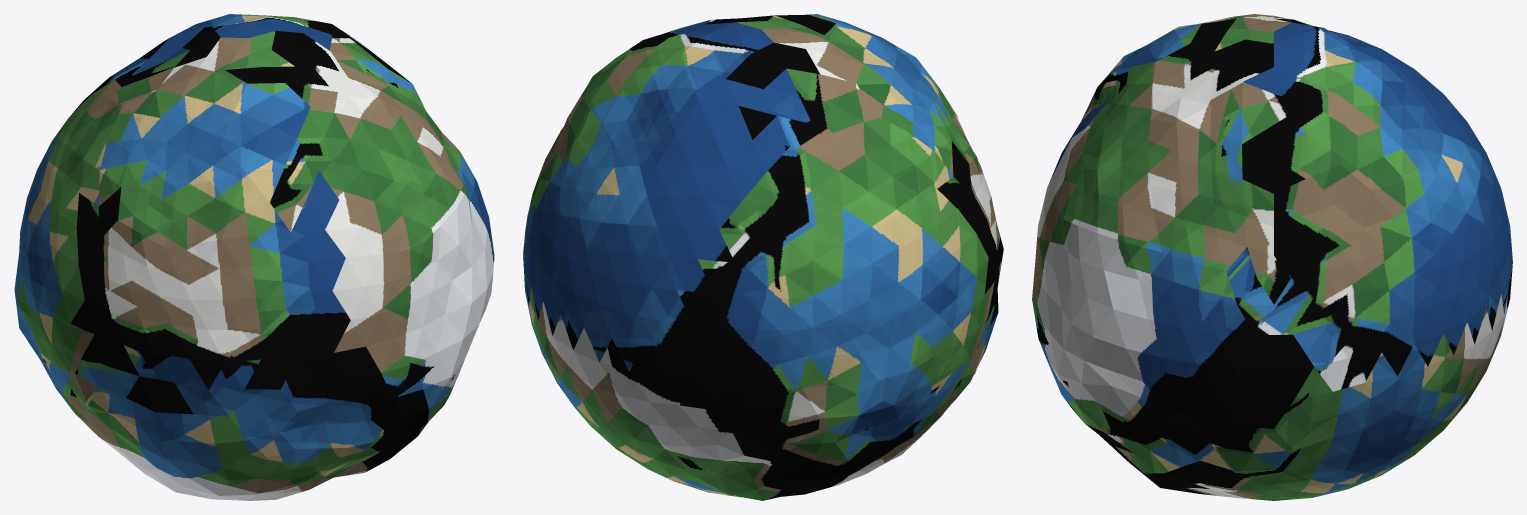
Rendered from earth.glb.
3 views of the same model, side by side, from view 1: azimuth 30°, elevation 25°; view 2: azimuth 150°, elevation 25°; view 3: azimuth 270°, elevation 25° (orthographic). The views are drawn at different scales.
Parts seen in each view (by area): view 1: Earth; view 2: Earth; view 3: Earth.
Boxes of the visible parts, x1=… form: Earth: x1=14, y1=14, x2=494, y2=500; Earth: x1=523, y1=14, x2=1003, y2=500; Earth: x1=1032, y1=14, x2=1512, y2=500.
Bounding box in the file's own units: 2.05 × 2.07 × 2.01.
Materials: 1 (1 with a texture image).
